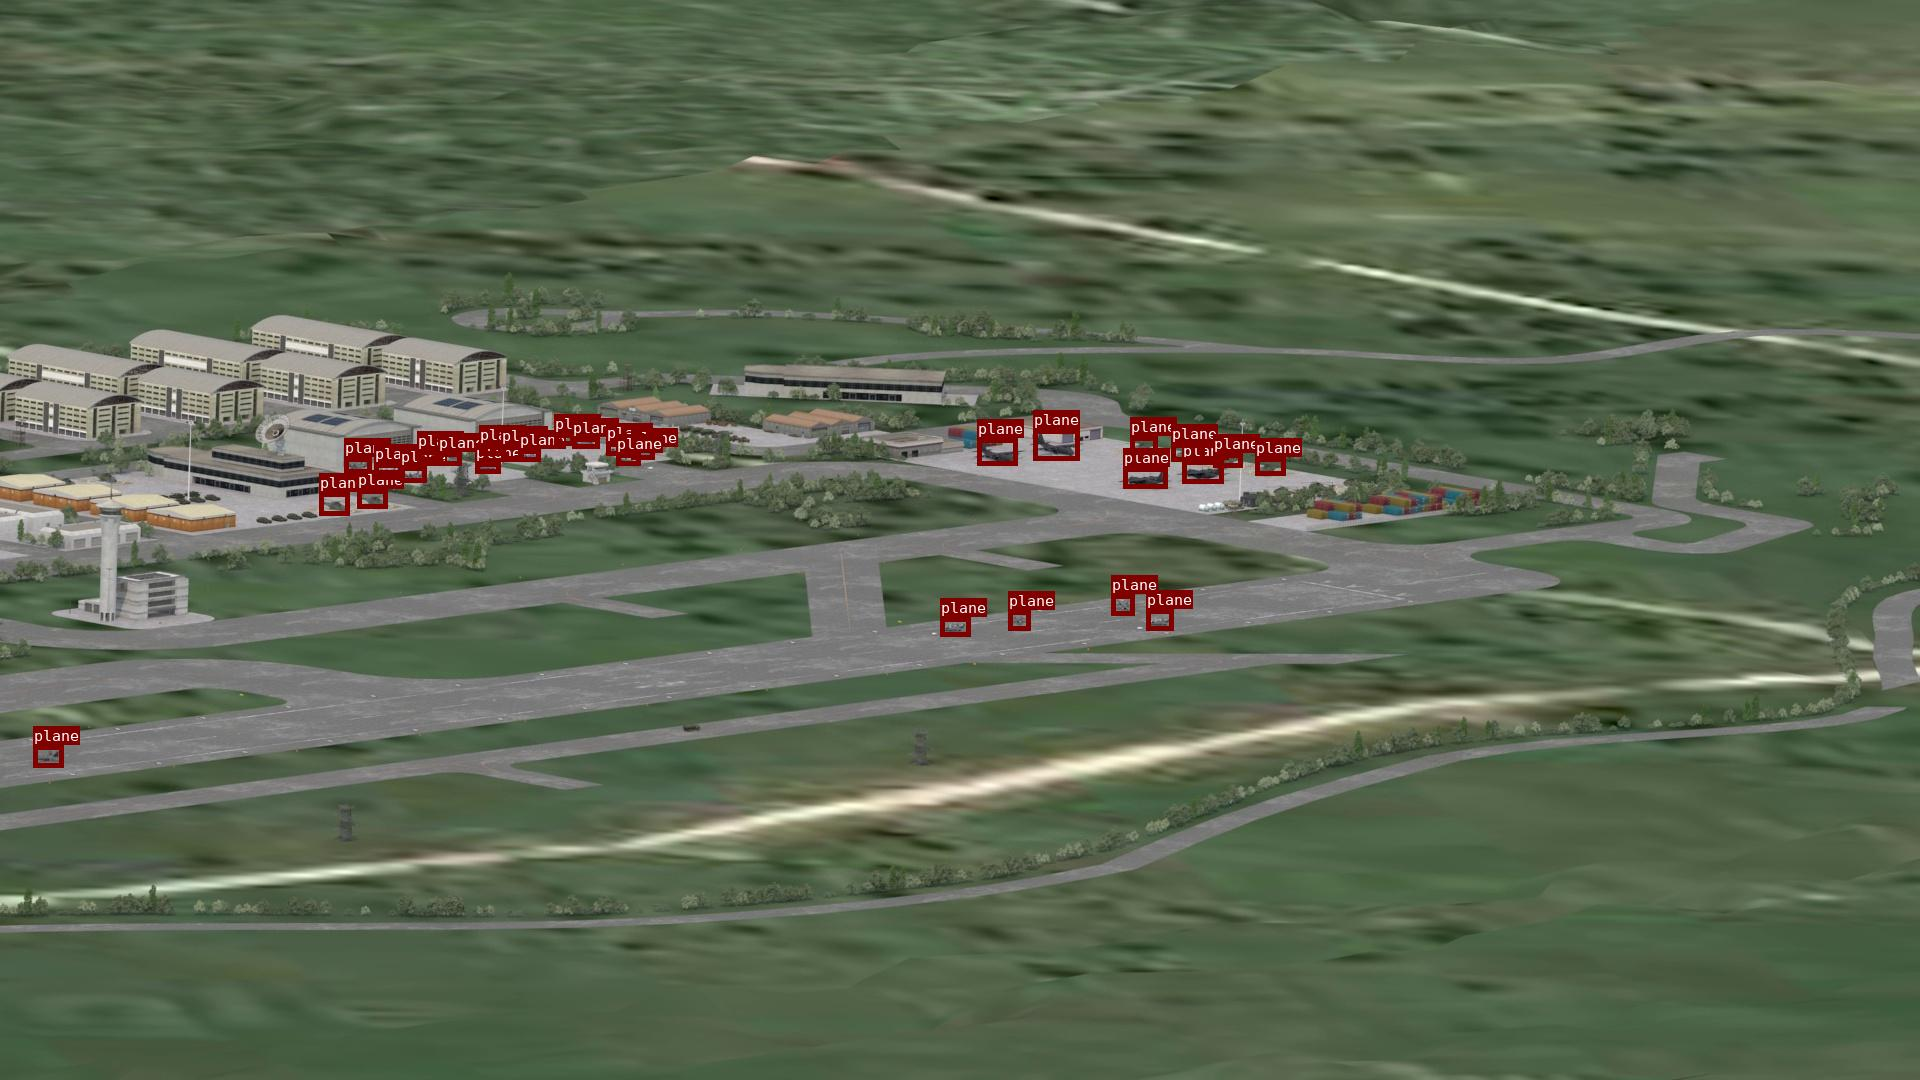plane: (1033, 429, 1079, 460), (977, 438, 1017, 465), (1124, 467, 1167, 488), (1182, 460, 1222, 483), (319, 492, 349, 516), (33, 745, 63, 767), (1171, 443, 1204, 462), (1146, 609, 1174, 630), (940, 617, 971, 636), (357, 489, 386, 508), (1255, 458, 1284, 475), (1112, 593, 1134, 615), (400, 465, 426, 483), (1130, 436, 1156, 454), (1007, 611, 1030, 630), (375, 463, 402, 479), (344, 458, 371, 473), (1213, 454, 1242, 467), (501, 444, 522, 460), (438, 452, 462, 465), (572, 436, 599, 448), (475, 462, 500, 473), (607, 442, 629, 455), (616, 454, 640, 465), (520, 448, 541, 462), (632, 447, 654, 459), (417, 450, 438, 462), (479, 444, 502, 455), (554, 433, 574, 444)
